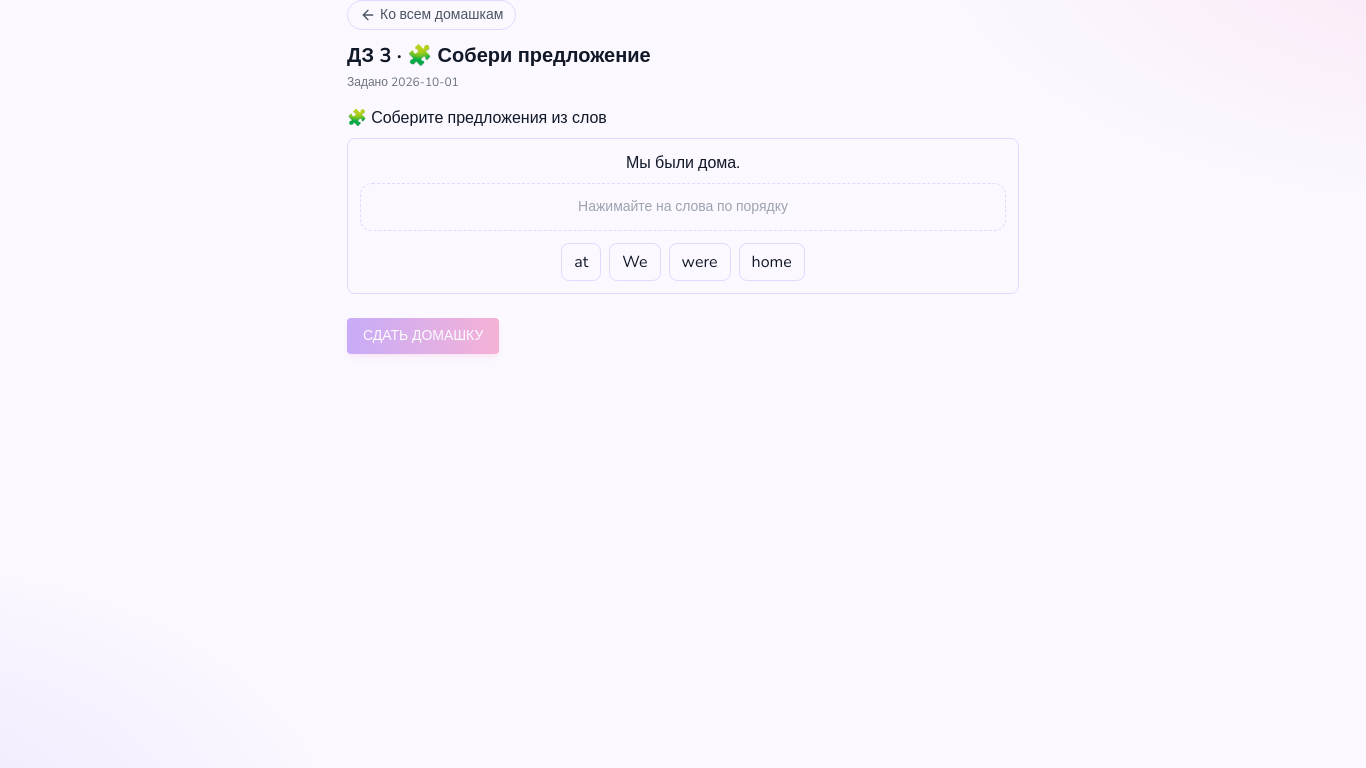
HomeworkRunnerPage with «Собери предложение» › builds the sentence by tapping words and checks it when complete
Expected: the text "Мы были дома." is shown, [626,152,740,174]
Click the button "We". click: (635, 262)
box: [609,243,660,281]
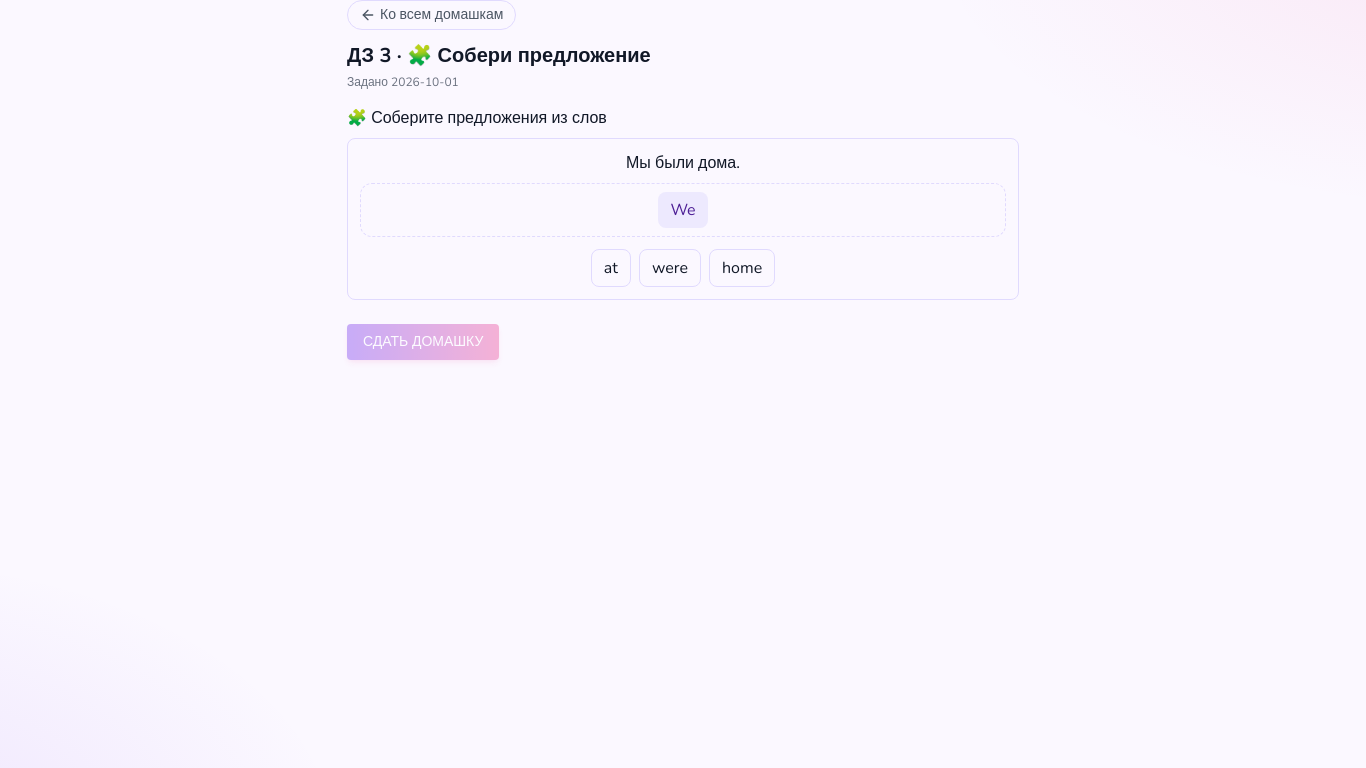
Click the button "were". click: (670, 268)
box: [639,249,701,287]
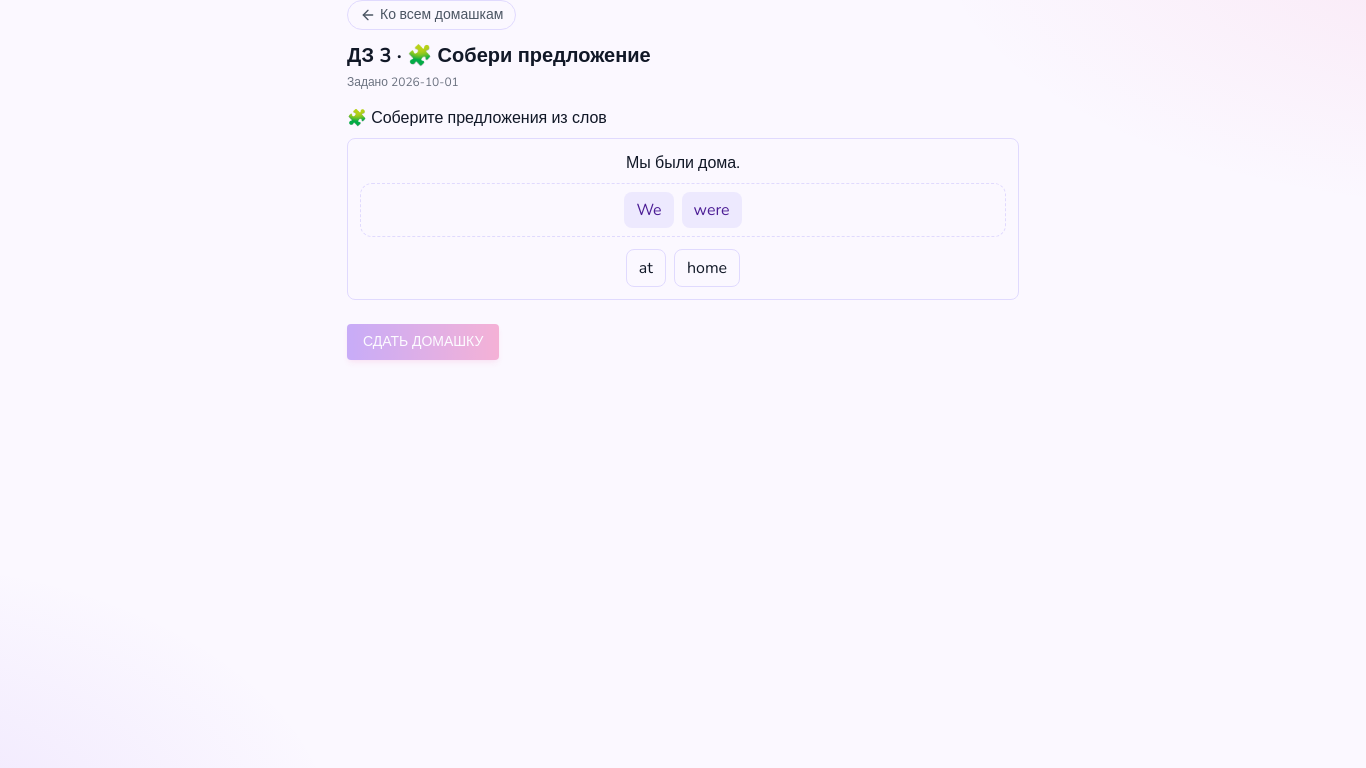
Click the button "at". click: (646, 268)
box: [626,249,666,287]
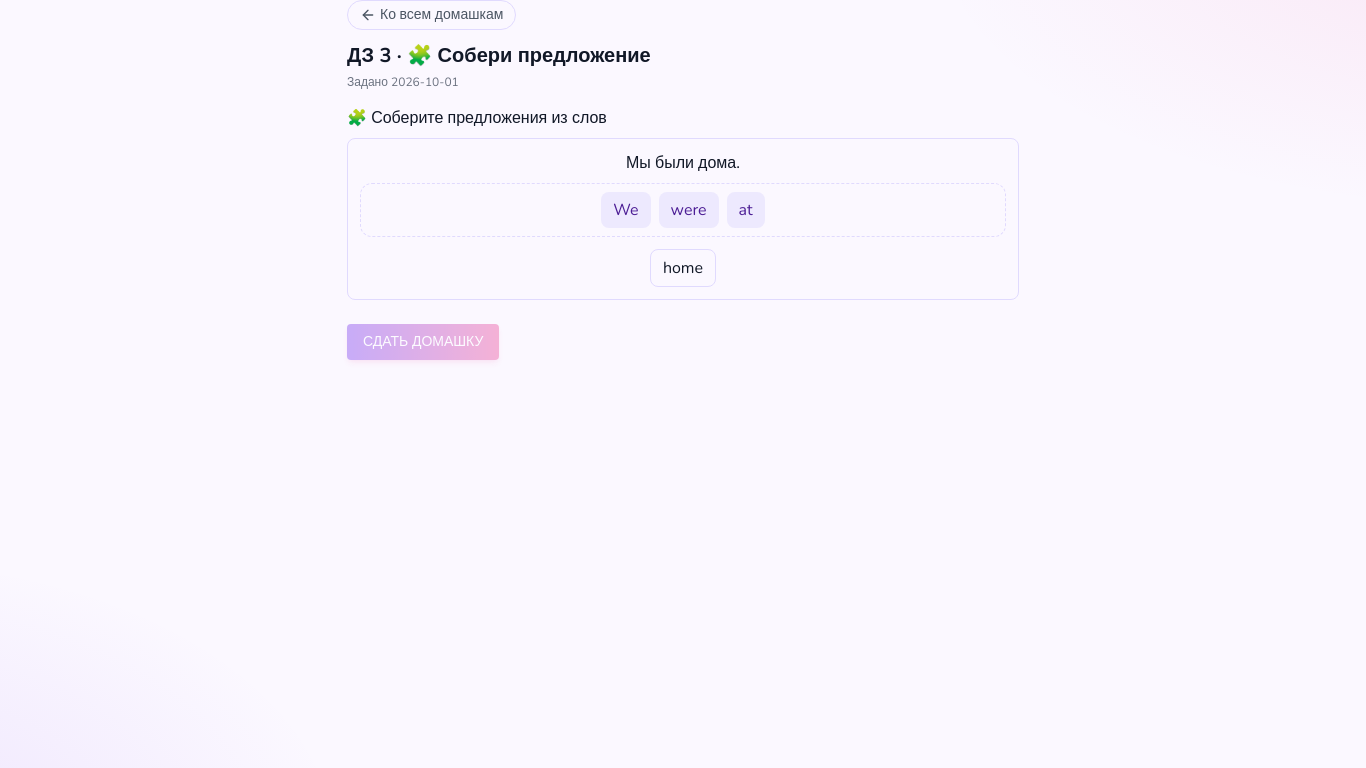
Click the button "home". click: (683, 268)
box: [650,249,716,287]
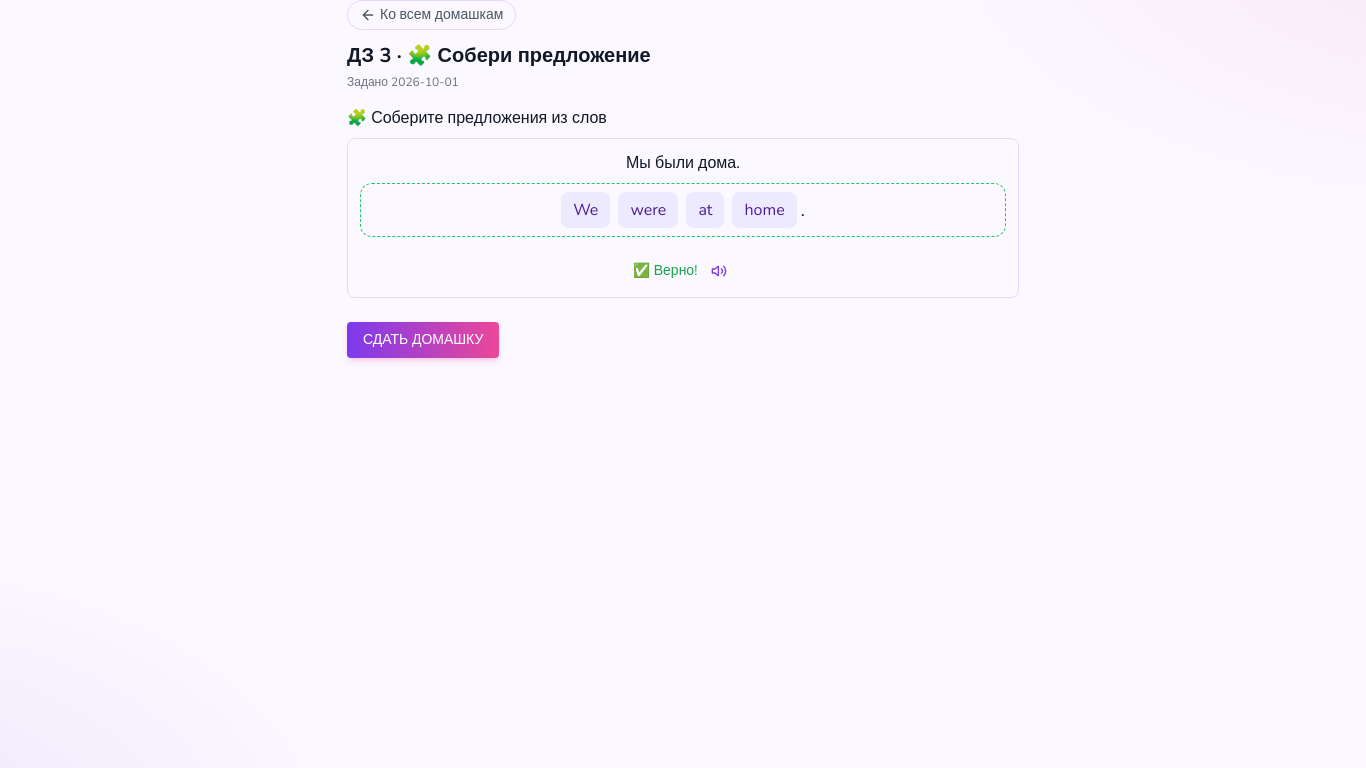
Expected: the text "✅ Верно!" is shown, [633,261,697,281]
